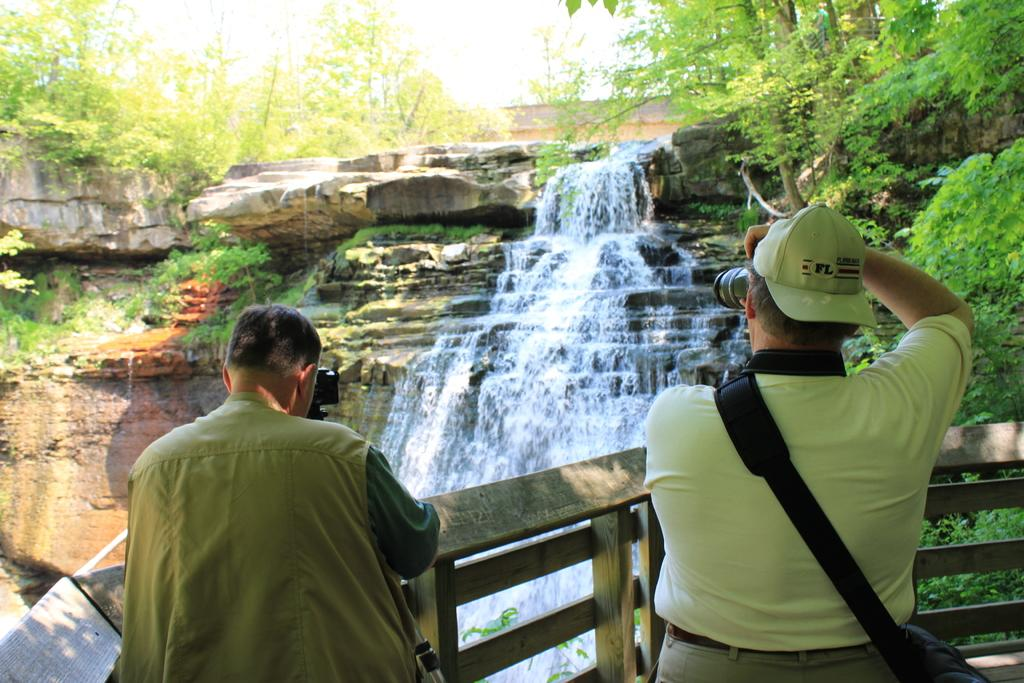Hat: (750, 203, 878, 328)
